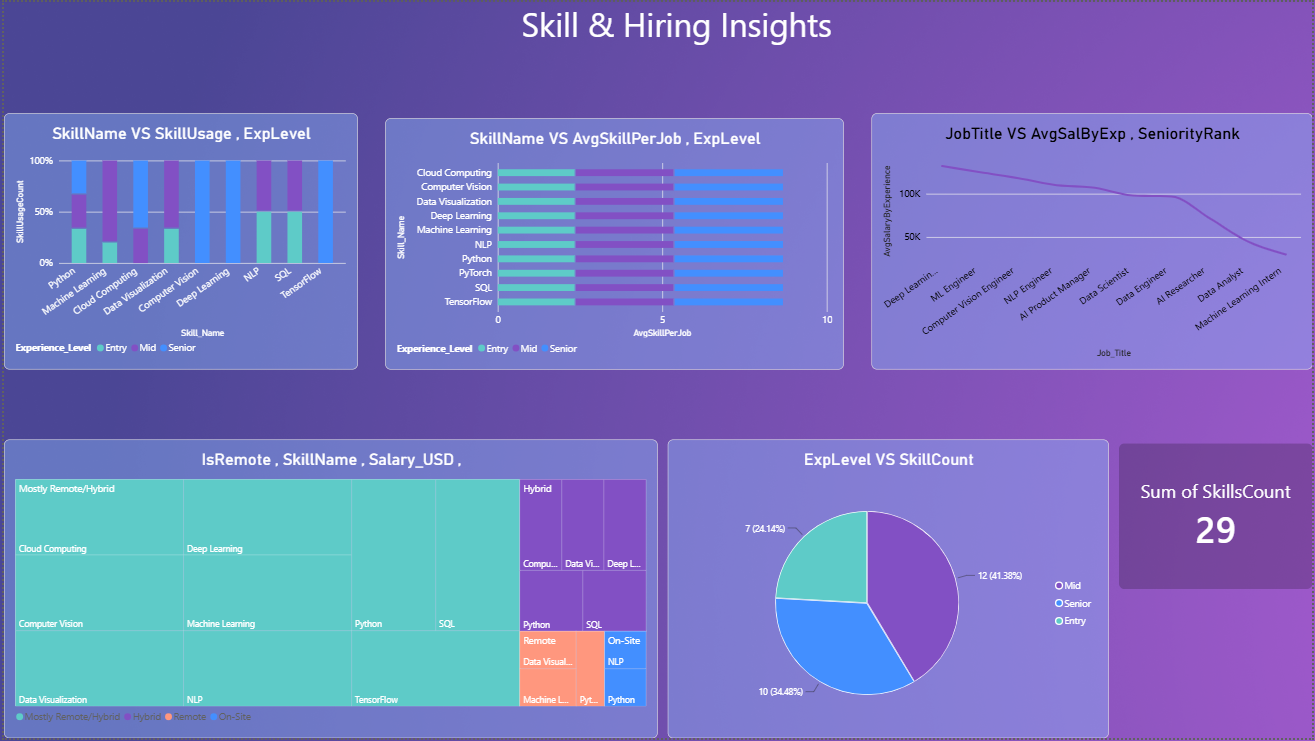

This screenshot's page, from the dashboard's own definition file:
{"tool":"powerbi","page":{"name":"Skill and Hiring Insights","canvas":[1920,1080],"ordinal":3},"visuals":[{"type":"textbox","box":[759.4,0,487.9,69.7],"z":0},{"type":"hundredPercentStackedColumnChart","title":"SkillName VS SkillUsage , ExpLevel","fields":{"Category":["Dim_Skills.Skill_Name"],"Series":["Fact_Jobs.Experience_Level"],"Y":["Dim_Skills.SkillUsageCount"]},"box":[0,163.2,519.1,376],"z":1},{"type":"treemap","title":"IsRemote , SkillName , Salary_USD ,","fields":{"Details":["Dim_Skills.Skill_Name"],"Group":["Fact_Jobs.IsRemote"],"Values":["Sum(Fact_Jobs.Salary_USD)"]},"box":[0,642,959.3,438.4],"z":2},{"type":"cardVisual","title":"Total Jobs","fields":{"Data":["Sum(Fact_Jobs.SkillsCount)"]},"box":[1636.1,647.5,284.3,214.6],"z":3},{"type":"lineChart","title":"JobTitle VS AvgSalByExp , SeniorityRank","fields":{"Category":["Fact_Jobs.Job_Title"],"Y":["Fact_Jobs.AvgSalaryByExperience"]},"box":[1273,163.2,647.5,376],"z":4},{"type":"barChart","title":"SkillName VS AvgSkillPerJob , ExpLevel","fields":{"Category":["Dim_Skills.Skill_Name"],"Series":["Fact_Jobs.Experience_Level"],"Y":["Fact_Job_Skills.AvgSkillPerJob"]},"box":[559.4,170.6,673.2,368.7],"z":5},{"type":"pieChart","title":"ExpLevel VS SkillCount","fields":{"Category":["Fact_Jobs.Experience_Level"],"Y":["Sum(Fact_Jobs.SkillsCount)"]},"box":[974,642,647.5,438.4],"z":6}]}

Visuals, with their boxes in screenshot pixels (x1, y1, x2, y2), scaled from the page's 1920x1080 canvas onto the 1315x741 screenshot:
textbox: bbox=[520, 0, 854, 48]
"SkillName VS SkillUsage , ExpLevel" hundredPercentStackedColumnChart: bbox=[0, 112, 356, 370]
"IsRemote , SkillName , Salary_USD ," treemap: bbox=[0, 440, 657, 740]
"Total Jobs" cardVisual: bbox=[1121, 444, 1314, 591]
"JobTitle VS AvgSalByExp , SeniorityRank" lineChart: bbox=[872, 112, 1314, 370]
"SkillName VS AvgSkillPerJob , ExpLevel" barChart: bbox=[383, 117, 844, 370]
"ExpLevel VS SkillCount" pieChart: bbox=[667, 440, 1111, 740]
